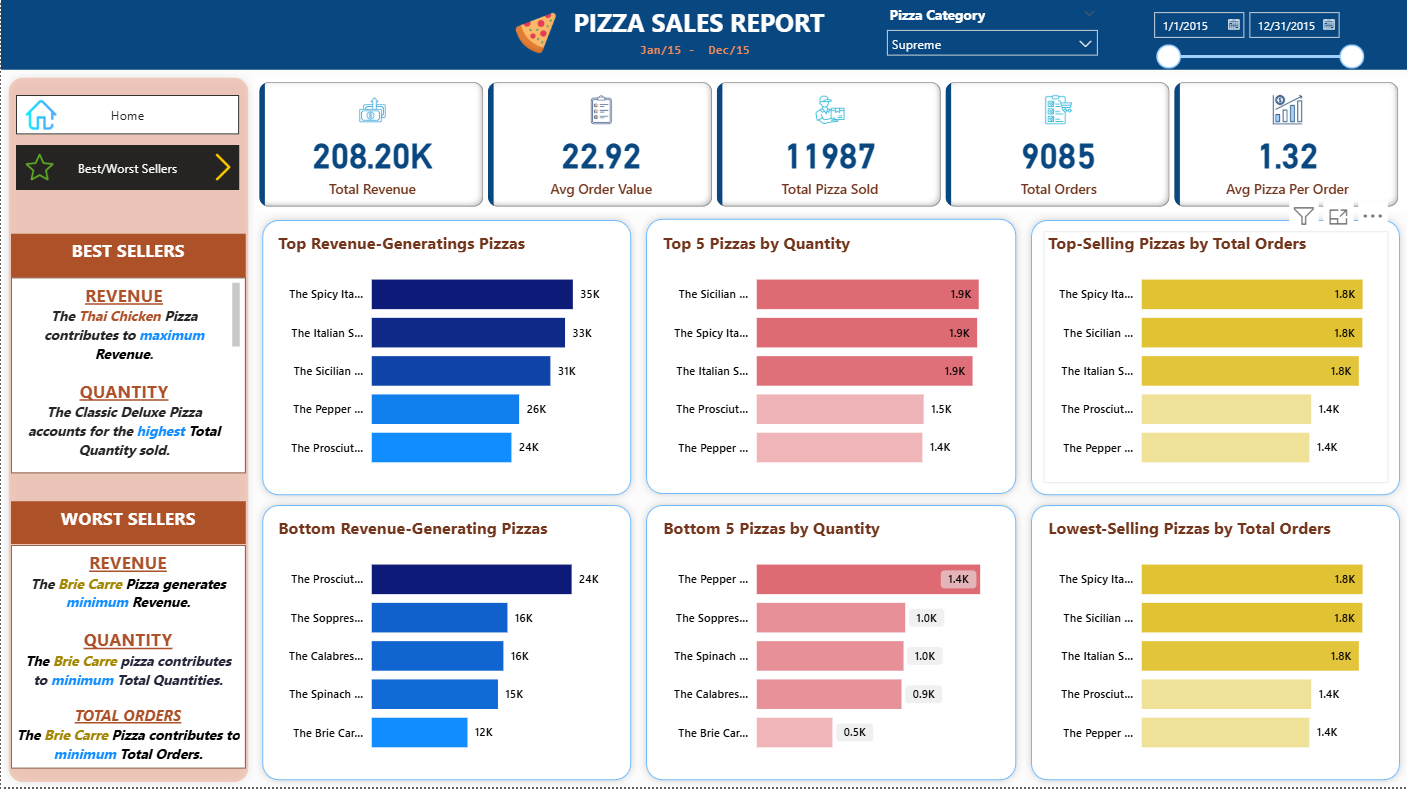

This screenshot's page, from the dashboard's own definition file:
{"tool":"powerbi","page":{"name":"Best/Worst Sellers","canvas":[1500,840],"ordinal":1},"visuals":[{"type":"shape","box":[0,0,1500.4,74.6],"z":0},{"type":"cardVisual","fields":{"Data":["pizza sales.Total Revenue","pizza sales.Avg Order Value","pizza sales.Total Pizza Sold","pizza sales.Total Orders","pizza sales.Avg Pizza Per Order"]},"box":[271.4,82.7,1228.9,143.3],"z":1000},{"type":"textbox","box":[570,0,347.7,56.3],"z":2000},{"type":"textbox","box":[670,38,143.6,35.2],"z":3000},{"type":"shape","box":[0,75,272.1,767.6],"z":3000,"group":"g1"},{"type":"image","box":[527.8,8.4,84.5,54.9],"z":4000},{"type":"group","id":"g1","title":"Group 1","box":[0,75,272.1,767.6],"z":5000},{"type":"shape","box":[679.8,225.2,411,309.7],"z":5000,"group":"g2"},{"type":"shape","box":[270.2,226.6,409.6,309.7],"z":5000,"group":"g3"},{"type":"shape","box":[1090.8,226.6,409.6,309.7],"z":5000,"group":"g6"},{"type":"shape","box":[270.2,530.6,409.6,309.7],"z":5000,"group":"g7"},{"type":"shape","box":[679.8,530.6,411,309.7],"z":5000,"group":"g4"},{"type":"shape","box":[1090.8,530.6,409.6,309.7],"z":5000,"group":"g5"},{"type":"textbox","box":[10.3,295.6,250,208.8],"z":6000},{"type":"textbox","box":[10.3,535.3,250,45.6],"z":7000},{"type":"slicer","fields":{"Values":["pizza sales.order_date"]},"box":[1217.5,2.8,244.9,83],"z":8000},{"type":"textbox","box":[10.3,580.9,250,238.2],"z":9000},{"type":"cardVisual","fields":{"Data":["pizza sales.Total Revenue","pizza sales.Avg Order Value","pizza sales.Total Pizza Sold","pizza sales.Total Orders","pizza sales.Avg Pizza Per Order"]},"box":[271.1,82.7,1228.9,143.3],"z":10000},{"type":"slicer","fields":{"Values":["pizza sales.pizza_category"]},"box":[934.6,0,244.9,71.8],"z":11000},{"type":"group","id":"g2","title":"Group 1","box":[679.8,225.2,411,309.7],"z":12000},{"type":"group","id":"g3","title":"Group 1","box":[270.2,226.6,409.6,309.7],"z":13000},{"type":"group","id":"g4","title":"Group 1","box":[679.8,530.6,411,309.7],"z":14000},{"type":"group","id":"g5","title":"Group 1","box":[1090.8,530.6,409.6,309.7],"z":15000},{"type":"group","id":"g6","title":"Group 1","box":[1090.8,226.6,409.6,309.7],"z":16000},{"type":"textbox","box":[10.3,250,250,64.7],"z":16001,"group":"g1"},{"type":"group","id":"g7","title":"Group 1","box":[270.2,530.6,409.6,309.7],"z":17000},{"type":"barChart","title":"Top Revenue-Generatings Pizzas","fields":{"Category":["pizza sales.pizza_name"],"Y":["pizza sales.Total Revenue"]},"box":[291.2,247.1,367.6,269.1],"z":18000},{"type":"barChart","title":"Bottom Revenue-Generating Pizzas","fields":{"Category":["pizza sales.pizza_name"],"Y":["pizza sales.Total Revenue"]},"box":[291.2,550,367.6,269.1],"z":19000},{"type":"barChart","title":"Top 5 Pizzas by Quantity","fields":{"Category":["pizza sales.pizza_name"],"Y":["pizza sales.Total Pizza Sold"]},"box":[701.5,247.1,367.6,269.1],"z":20000},{"type":"barChart","title":"Bottom 5 Pizzas by Quantity","fields":{"Category":["pizza sales.pizza_name"],"Y":["pizza sales.Total Pizza Sold"]},"box":[701.5,550,367.6,269.1],"z":21000},{"type":"barChart","title":"Top-Selling Pizzas by Total Orders","fields":{"Category":["pizza sales.pizza_name"],"Y":["pizza sales.Total Orders"]},"box":[1111.8,247.1,367.6,269.1],"z":22000},{"type":"barChart","title":"Lowest-Selling Pizzas by Total Orders","fields":{"Category":["pizza sales.pizza_name"],"Y":["pizza sales.Total Orders"]},"box":[1111.8,550,367.6,269.1],"z":23000},{"type":"pageNavigator","box":[16.2,154.4,238.2,48.5],"z":24000},{"type":"pageNavigator","box":[16.2,101.5,238.2,42.6],"z":25000},{"type":"image","box":[213.2,158.8,47.1,39.7],"z":26000},{"type":"image","box":[16.2,101.5,52.9,42.6],"z":27000},{"type":"image","box":[20.6,158.8,42.6,39.7],"z":28000}]}

Visuals, with their boxes in screenshot pixels (x1, y1, x2, y2), scaled from the page's 1500x840 canvas onto the 1407x789 screenshot:
shape: locate(0, 0, 1406, 70)
cardVisual - pizza sales.Total Revenue x pizza sales.Avg Order Value: locate(255, 78, 1406, 212)
textbox: locate(535, 0, 861, 53)
textbox: locate(628, 36, 763, 69)
shape: locate(0, 70, 255, 788)
image: locate(495, 8, 574, 59)
"Group 1" group: locate(0, 70, 255, 788)
shape: locate(638, 212, 1023, 502)
shape: locate(253, 213, 638, 504)
shape: locate(1023, 213, 1406, 504)
shape: locate(253, 498, 638, 788)
shape: locate(638, 498, 1023, 788)
shape: locate(1023, 498, 1406, 788)
textbox: locate(10, 278, 244, 474)
textbox: locate(10, 503, 244, 546)
slicer - pizza sales.order_date: locate(1142, 3, 1372, 81)
textbox: locate(10, 546, 244, 769)
cardVisual - pizza sales.Total Revenue x pizza sales.Avg Order Value: locate(254, 78, 1406, 212)
slicer - pizza sales.pizza_category: locate(877, 0, 1106, 67)
"Group 1" group: locate(638, 212, 1023, 502)
"Group 1" group: locate(253, 213, 638, 504)
"Group 1" group: locate(638, 498, 1023, 788)
"Group 1" group: locate(1023, 498, 1406, 788)
"Group 1" group: locate(1023, 213, 1406, 504)
textbox: locate(10, 235, 244, 296)
"Group 1" group: locate(253, 498, 638, 788)
"Top Revenue-Generatings Pizzas" barChart: locate(273, 232, 618, 485)
"Bottom Revenue-Generating Pizzas" barChart: locate(273, 517, 618, 769)
"Top 5 Pizzas by Quantity" barChart: locate(658, 232, 1003, 485)
"Bottom 5 Pizzas by Quantity" barChart: locate(658, 517, 1003, 769)
"Top-Selling Pizzas by Total Orders" barChart: locate(1043, 232, 1388, 485)
"Lowest-Selling Pizzas by Total Orders" barChart: locate(1043, 517, 1388, 769)
pageNavigator: locate(15, 145, 239, 191)
pageNavigator: locate(15, 95, 239, 135)
image: locate(200, 149, 244, 186)
image: locate(15, 95, 65, 135)
image: locate(19, 149, 59, 186)
